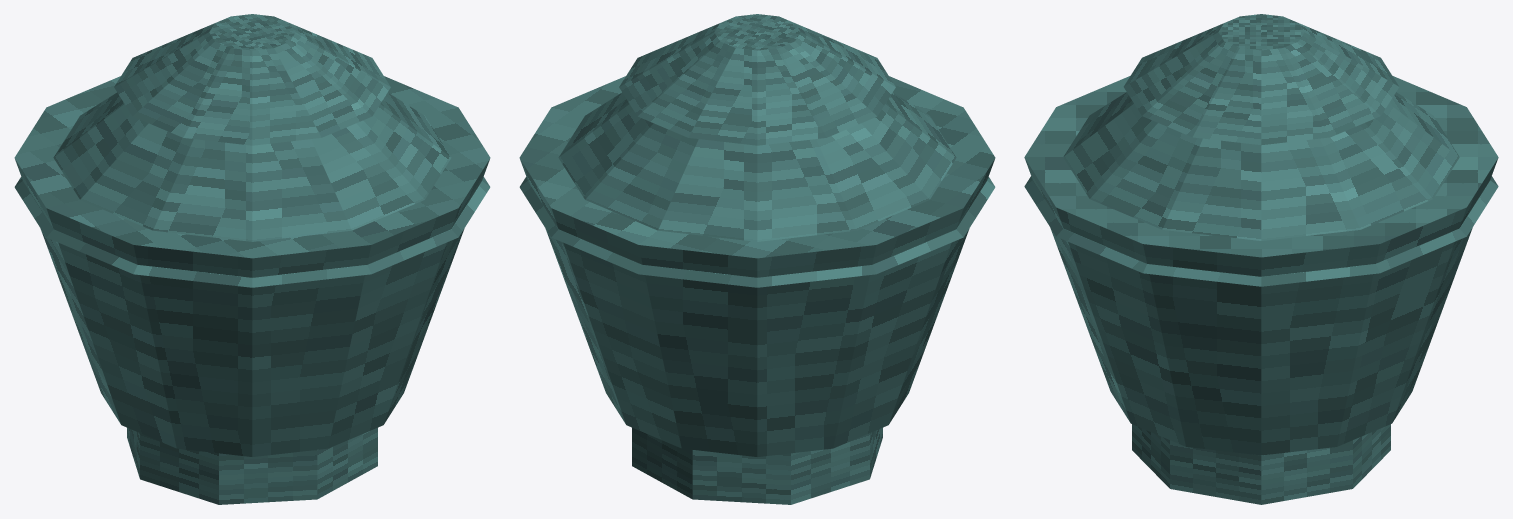
File: urn_27.glb
The picture shows the model from 3 angles, left to right: view 1: azimuth 30°, elevation 25°; view 2: azimuth 150°, elevation 25°; view 3: azimuth 270°, elevation 25°; orthographic projection.
Visible parts, largest first — view 1: Belly, Neck, Lid, Foot; view 2: Belly, Neck, Lid, Foot; view 3: Belly, Neck, Lid, Foot.
Boxes of the visible parts, left/top/right/bottom form: Belly: left=14, top=76, right=490, bottom=456; Neck: left=14, top=92, right=490, bottom=287; Lid: left=114, top=14, right=390, bottom=145; Foot: left=127, top=427, right=377, bottom=504; Belly: left=519, top=76, right=995, bottom=456; Neck: left=519, top=92, right=995, bottom=287; Lid: left=619, top=14, right=895, bottom=145; Foot: left=632, top=427, right=882, bottom=504; Belly: left=1024, top=76, right=1498, bottom=455; Neck: left=1024, top=92, right=1498, bottom=286; Lid: left=1123, top=14, right=1399, bottom=145; Foot: left=1132, top=424, right=1390, bottom=504.
Bounding box in the file's own units: 1.1 × 1.07 × 1.1.
Materials: 1 (1 with a texture image).
